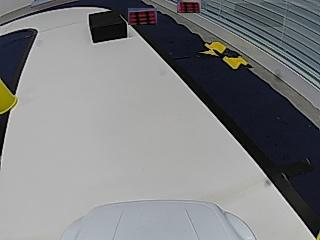block: (88, 10, 127, 42)
cone: (0, 77, 18, 113)
